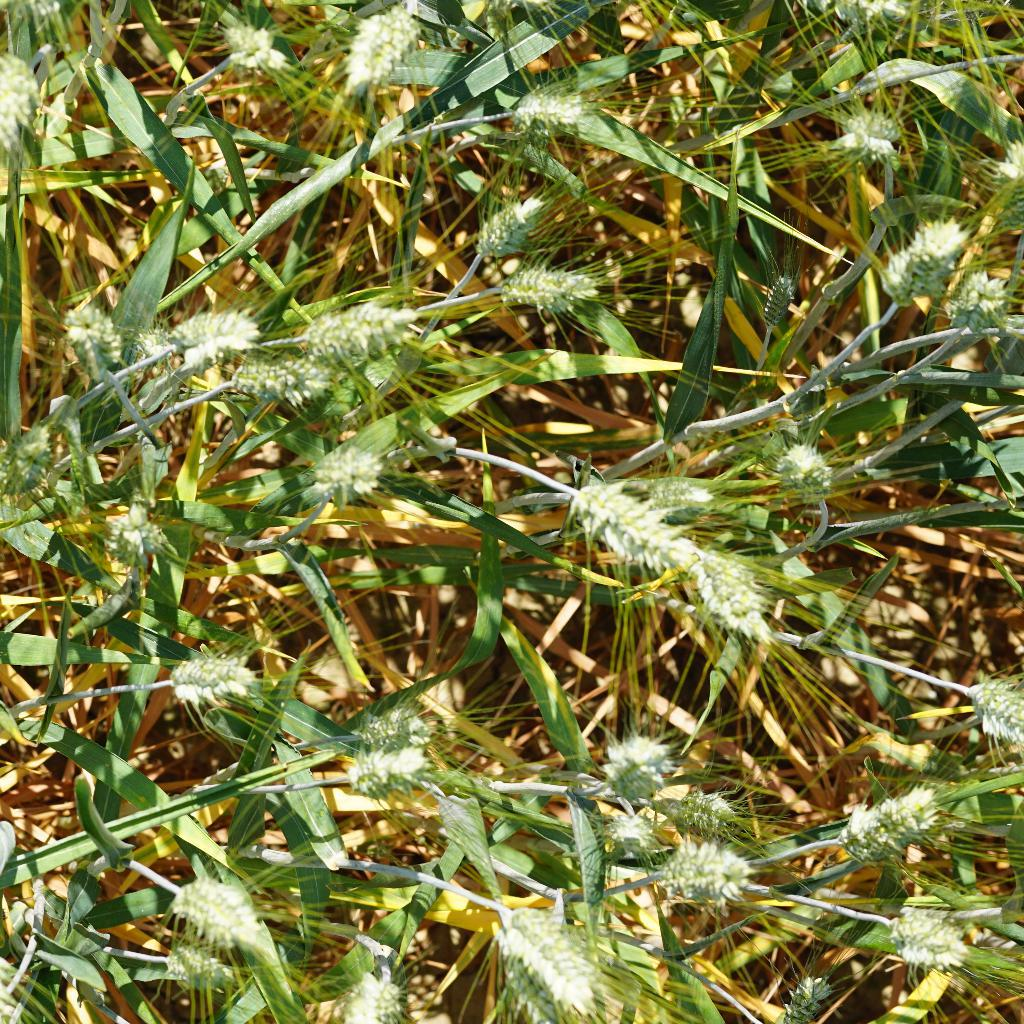0-0: (552, 452, 791, 645), (505, 904, 617, 1017), (320, 0, 421, 92), (290, 286, 410, 361), (836, 783, 950, 860), (875, 210, 965, 303), (156, 864, 257, 946), (578, 727, 680, 808), (489, 249, 613, 314), (149, 642, 260, 714), (660, 829, 761, 904), (332, 694, 445, 761), (456, 180, 559, 250), (889, 896, 972, 982), (318, 956, 417, 1024), (227, 350, 329, 414), (133, 937, 236, 1000), (101, 494, 187, 567), (0, 415, 70, 503), (822, 100, 904, 175), (146, 305, 261, 358), (0, 45, 51, 164), (949, 668, 1024, 748), (340, 740, 441, 799), (761, 437, 847, 505), (68, 294, 129, 389), (766, 950, 843, 1024), (212, 11, 290, 84), (960, 254, 1017, 352), (634, 459, 721, 522), (669, 785, 774, 837), (507, 78, 597, 135), (307, 440, 380, 509), (600, 803, 672, 866), (751, 262, 810, 337)
